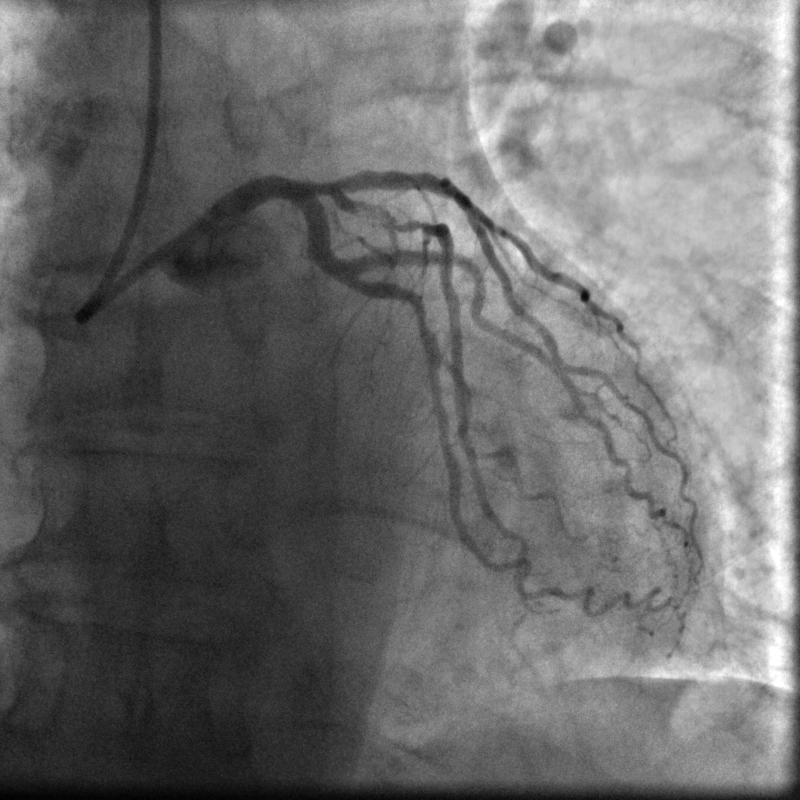Stenosis: (347, 189, 420, 242)
